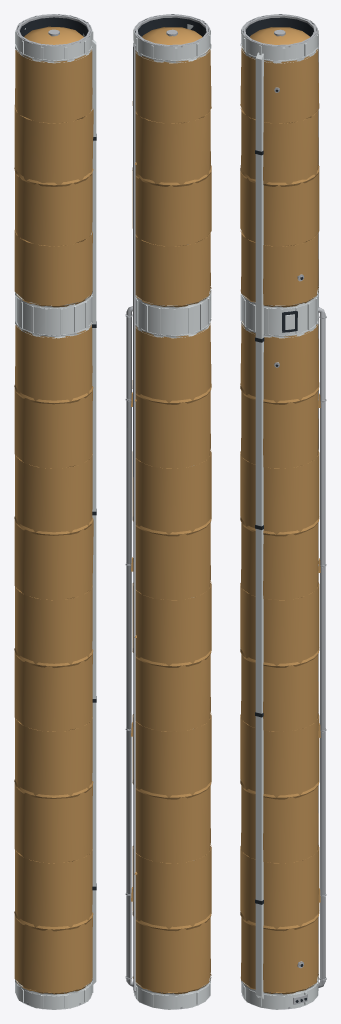
Rendered from tank_s1_xs_hydrolox.glb.
3 views of the same model, side by side, from view 1: azimuth 90°, elevation 25°; view 2: azimuth 150°, elevation 25°; view 3: azimuth 330°, elevation 25° (orthographic).
Visible parts, largest first — view 1: tank_s1_xs_hydrolox_mesh; view 2: tank_s1_xs_hydrolox_mesh; view 3: tank_s1_xs_hydrolox_mesh.
Part boxes in pixels (x1=…): tank_s1_xs_hydrolox_mesh: x1=14, y1=14, x2=96, y2=1009; tank_s1_xs_hydrolox_mesh: x1=125, y1=14, x2=211, y2=1009; tank_s1_xs_hydrolox_mesh: x1=240, y1=14, x2=326, y2=1009.
Bounding box in the file's own units: 1.6 × 20.8 × 1.62.
